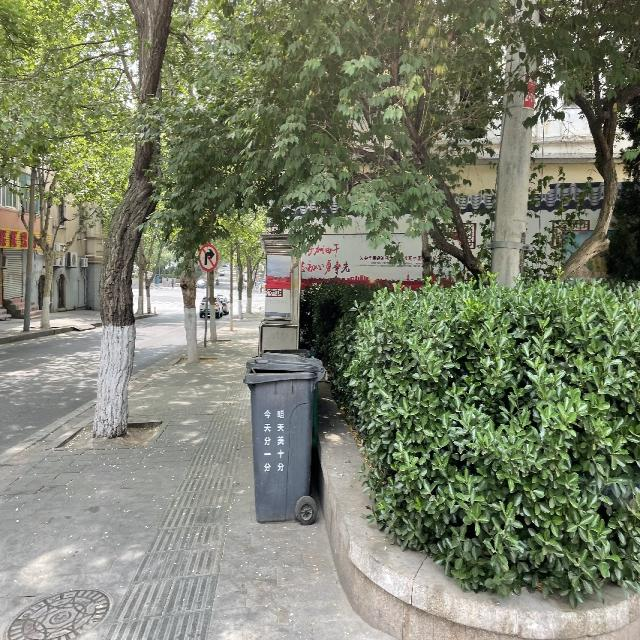garbage_bin: (243, 353, 325, 523)
